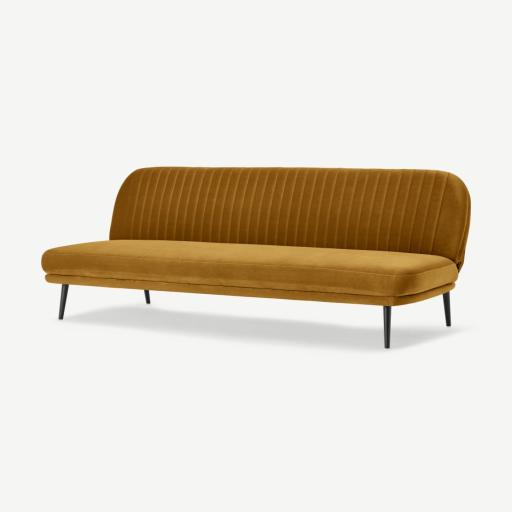back_cushion: (110, 168, 470, 269)
base: (45, 274, 454, 305)
legs: (59, 284, 68, 319), (384, 306, 391, 348), (443, 292, 450, 326), (144, 290, 149, 304)
seat_cushion: (43, 240, 458, 301)
two-seater: (0, 0, 511, 512)
